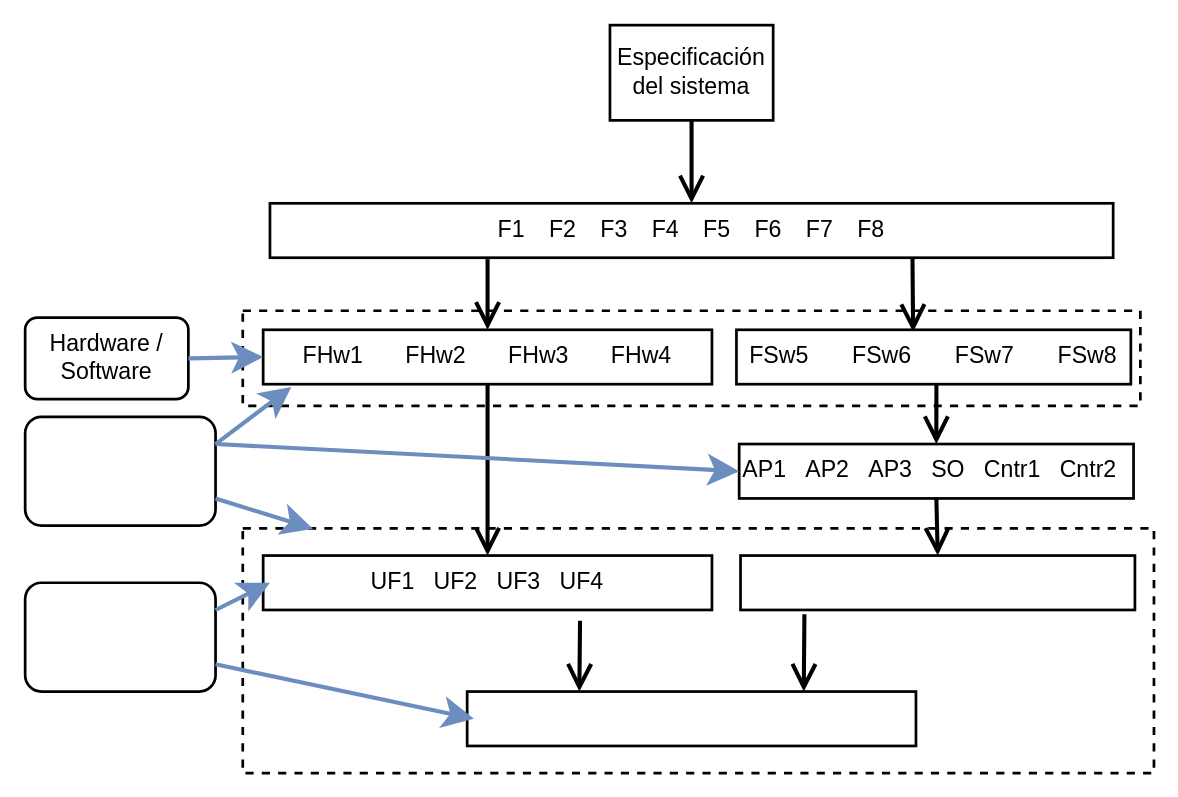
The diagram is 1178 pixels wide and 797 high, and some of its shapes have lost their labels. Each missing label, with the box of its shape:
Computación Comunicación: (23, 581, 216, 692)
Estructura de comunicación: (465, 690, 917, 747)
Funcionalidad Arquitectura: (23, 415, 216, 526)
Proc1 Proc2 Proc3 Mem: (738, 554, 1136, 611)
